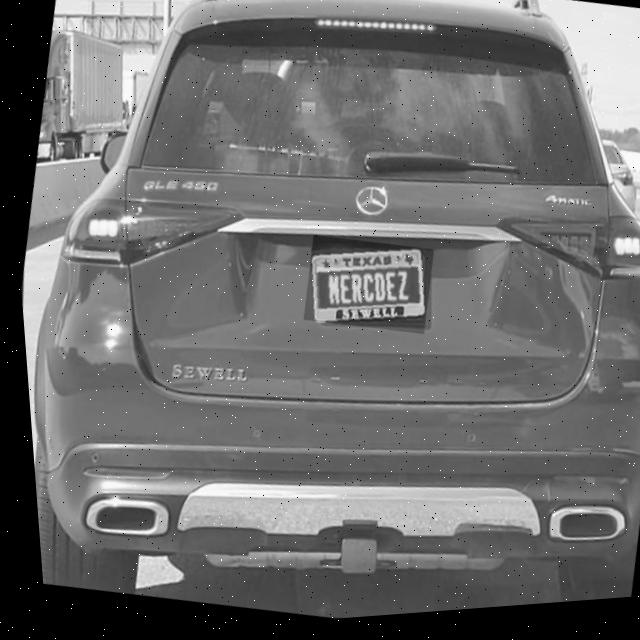LicensePlate: (307, 255, 421, 327)
